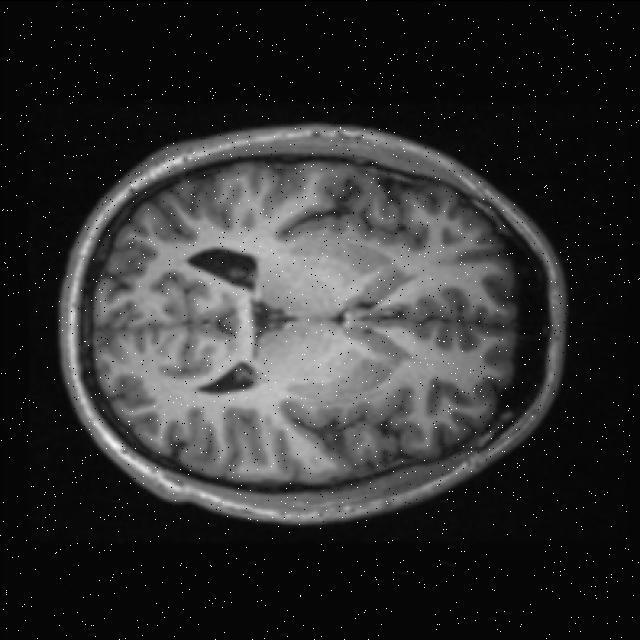No_Tumor: (60, 125, 565, 524)
